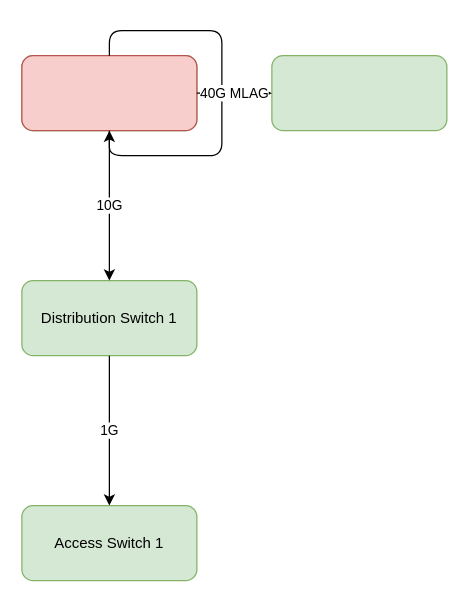
Some shapes in this 469 by 603 pixel diagram are drawn without their labels. Here are the shapes that lost their labels. From the top down, the centre of each, then its label:
[109,92]: Perimeter Firewall
[359,92]: Core Switch 2
